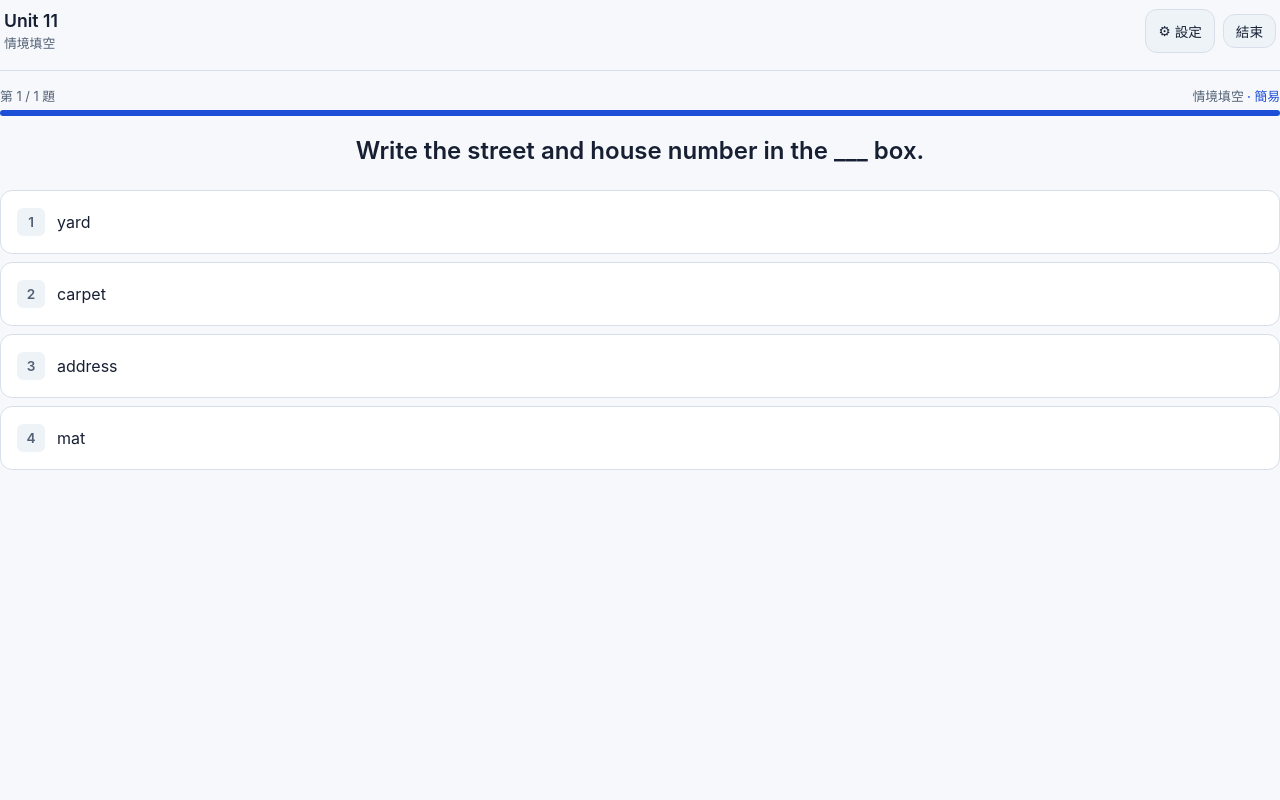
Scenario: ReportDialog (回報題目問題) › keeps the dialog open with an error note when fetch fails
This screenshot has width=1280, height=800.
Click the button with class "option-btn" showing "1 yard" at coordinates (74, 222), box [0, 190, 1279, 254]
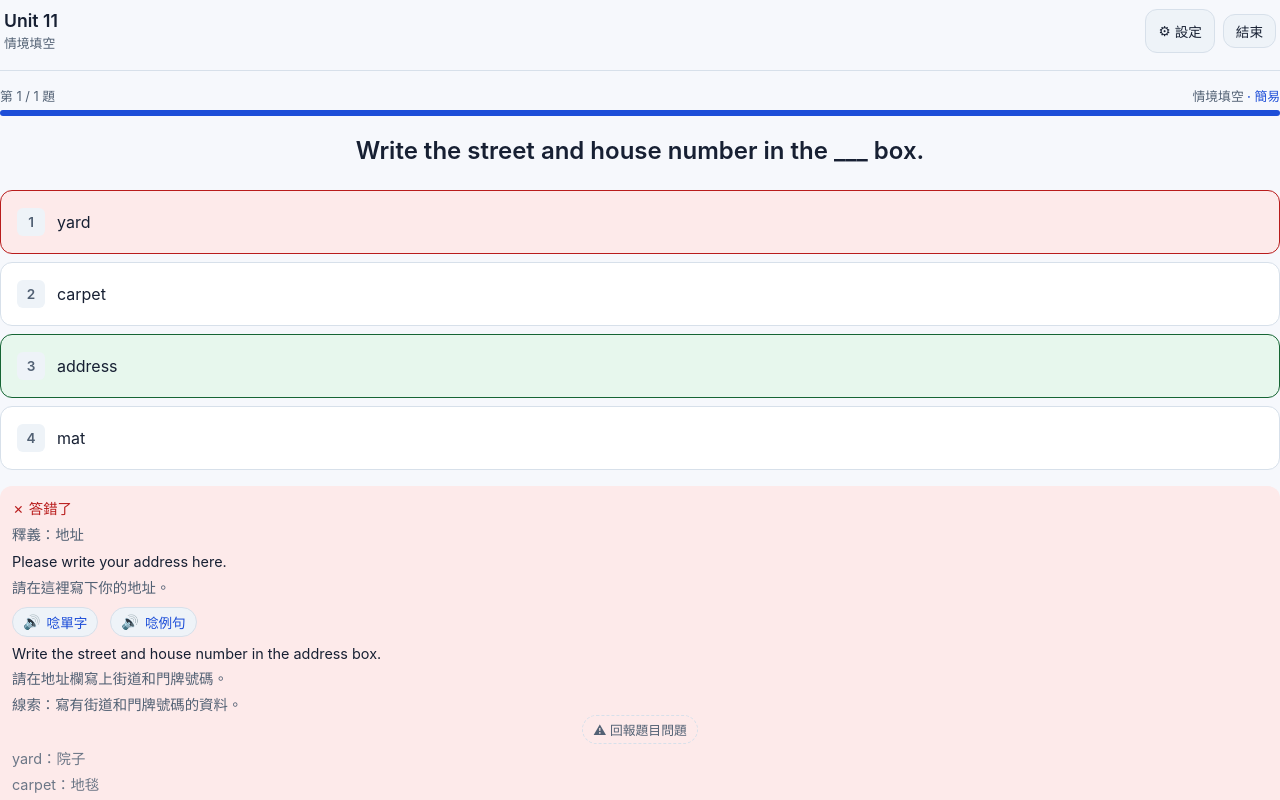
Click the button with class "report-btn" at coordinates (640, 730), box [582, 715, 698, 744]
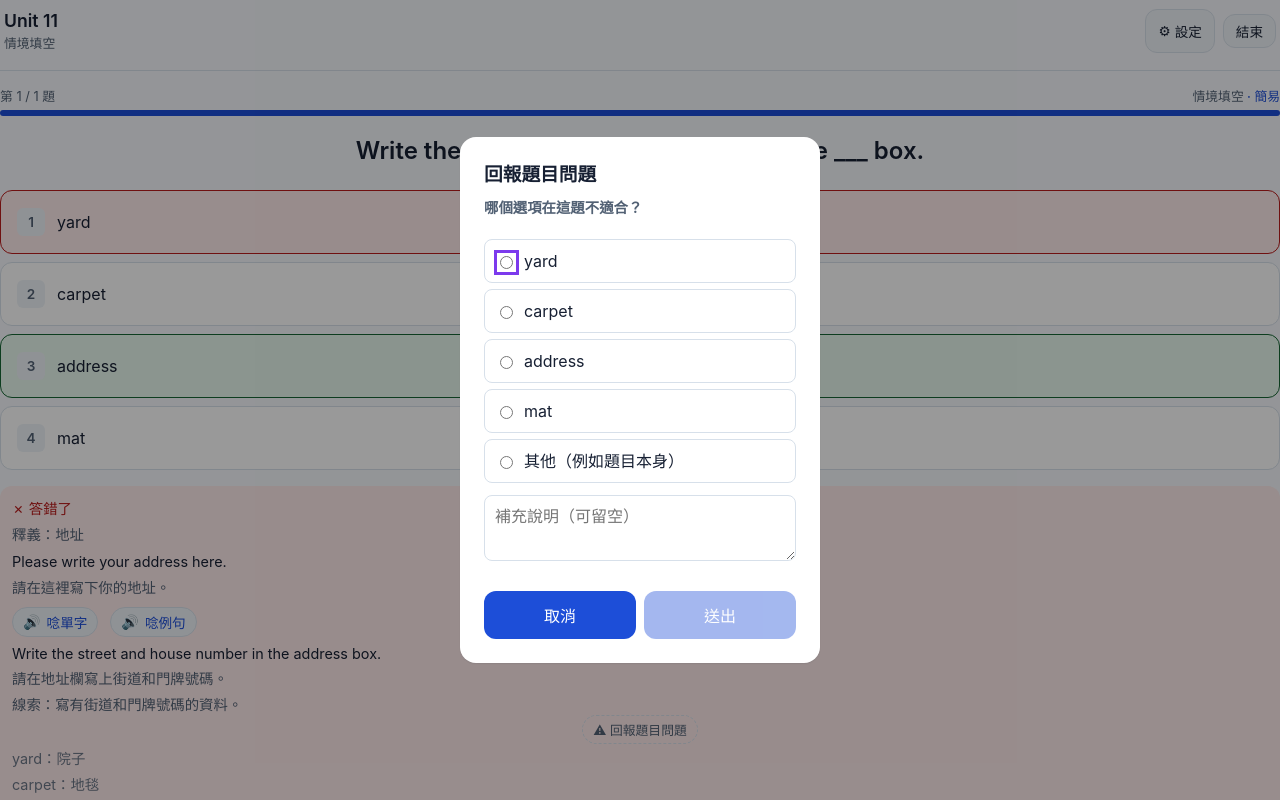
Click the radio button labelled "yard" at coordinates (506, 262), box [500, 256, 513, 269]
(page scrolled)
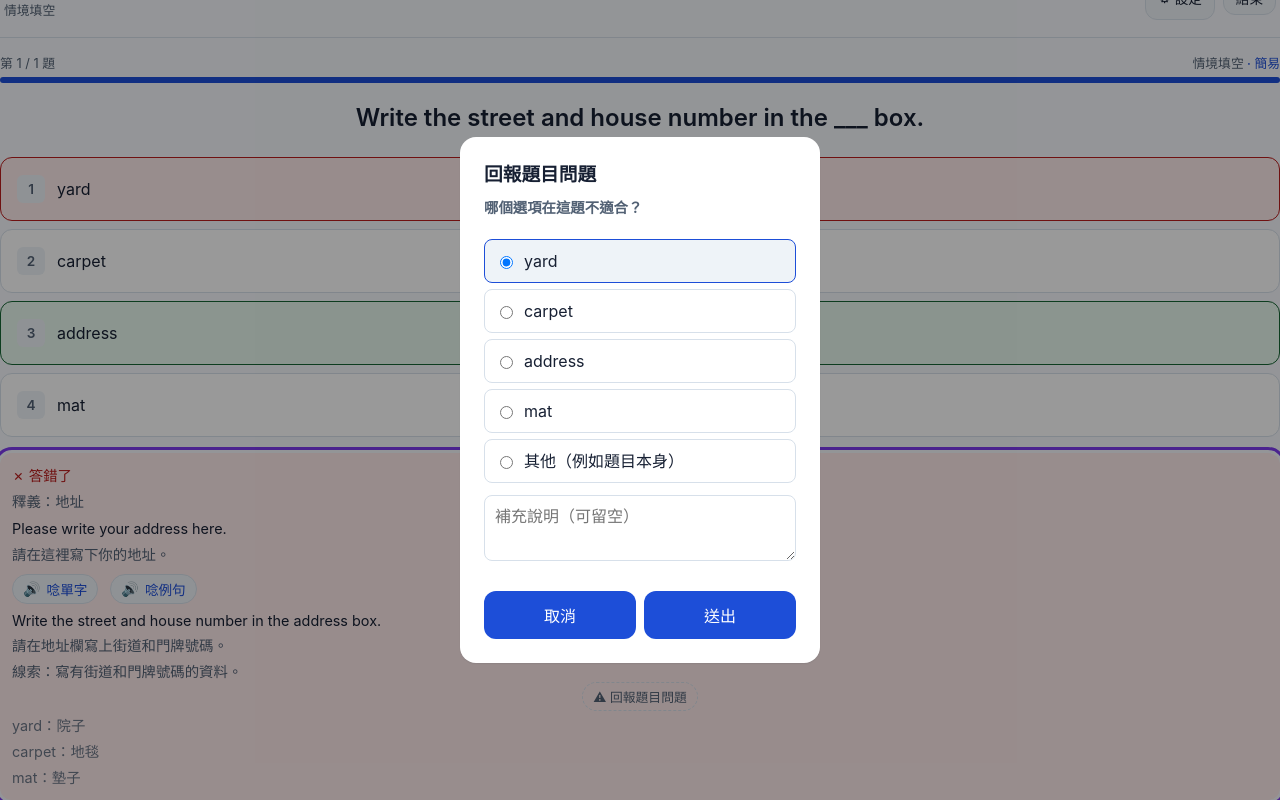
Click the button "送出" at coordinates (720, 615), box [644, 591, 796, 639]
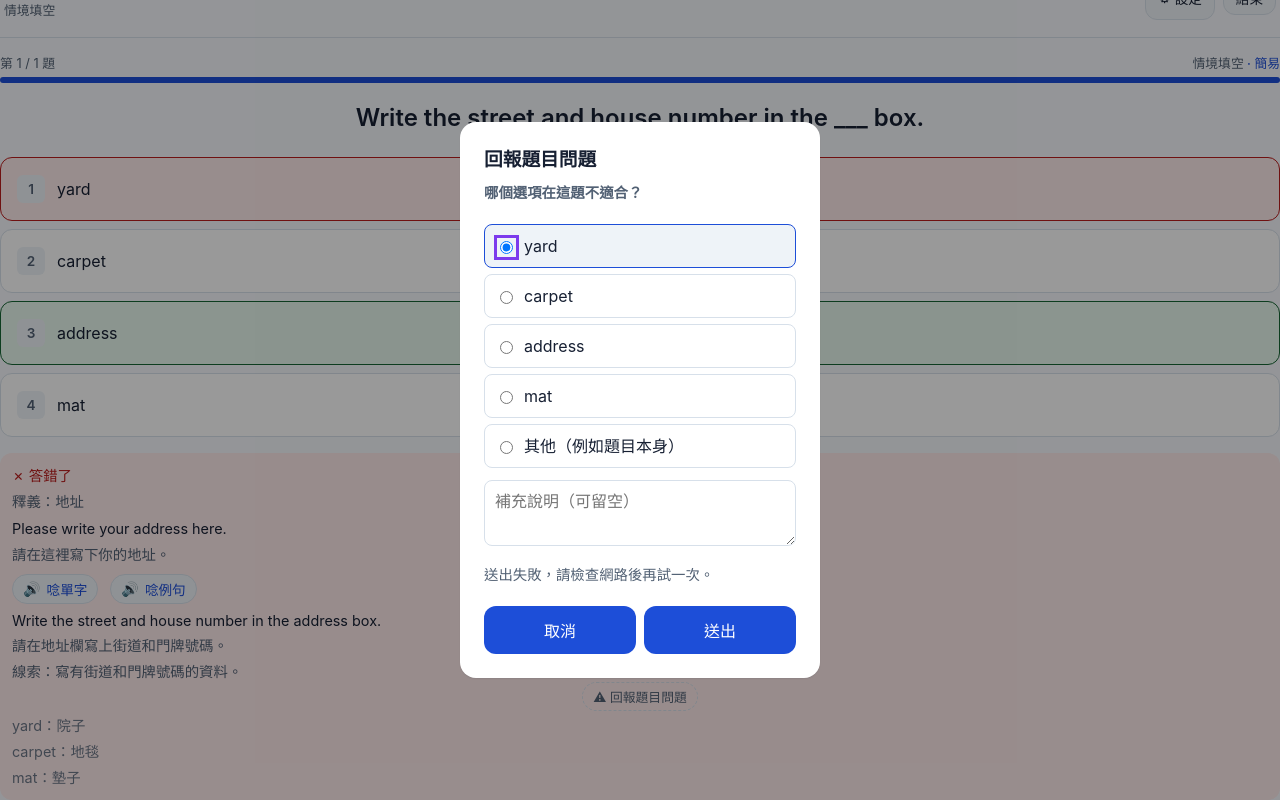
Expected: the dialog with class "report-modal" is shown, [460, 122, 820, 678]
Expected: the message "送出失敗，請檢查網路後再試一次。" is shown, [484, 566, 714, 583]
